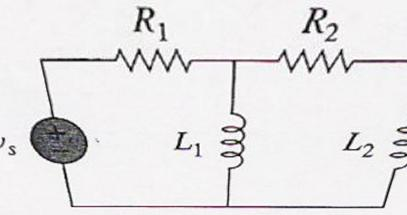inductor: (215, 105, 254, 174)
